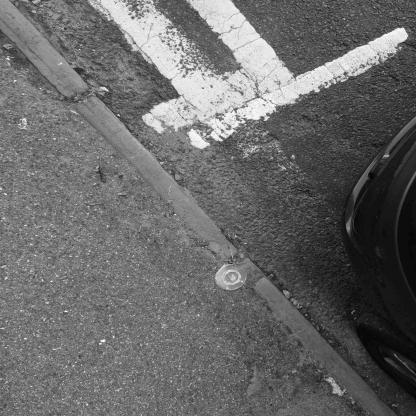plastic: (213, 265, 250, 289)
